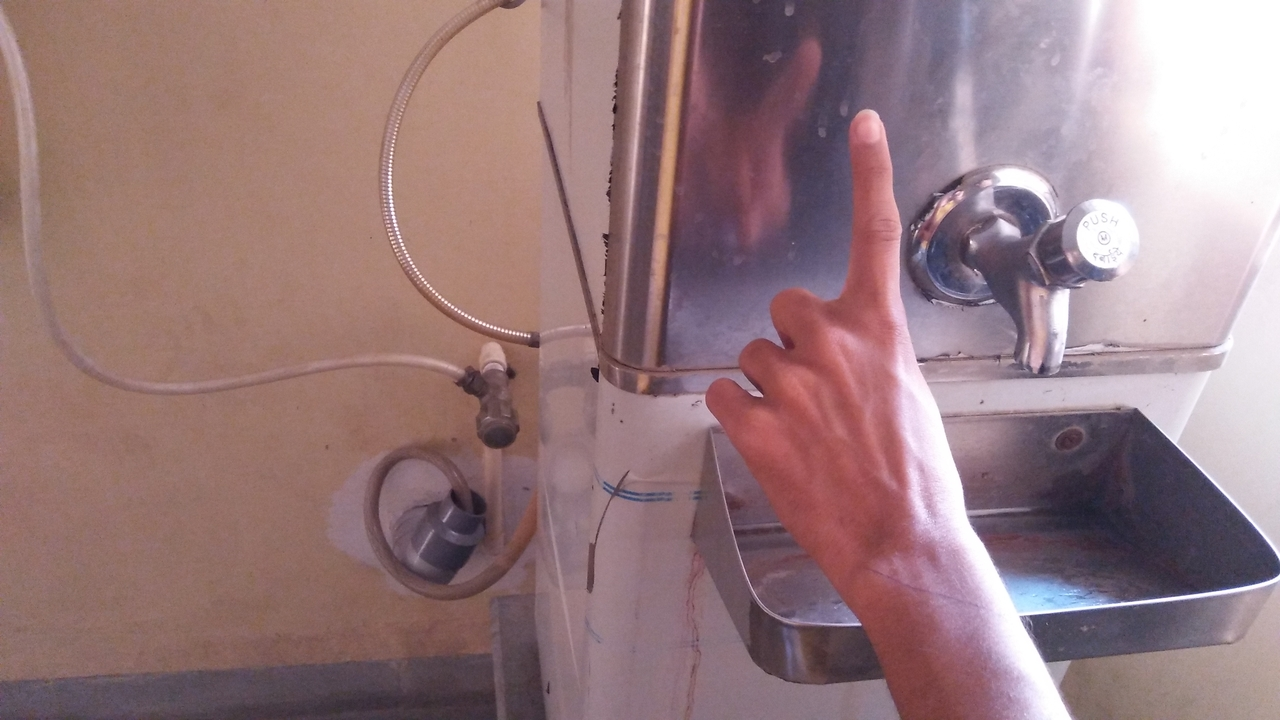fingertip: (844, 98, 900, 150)
